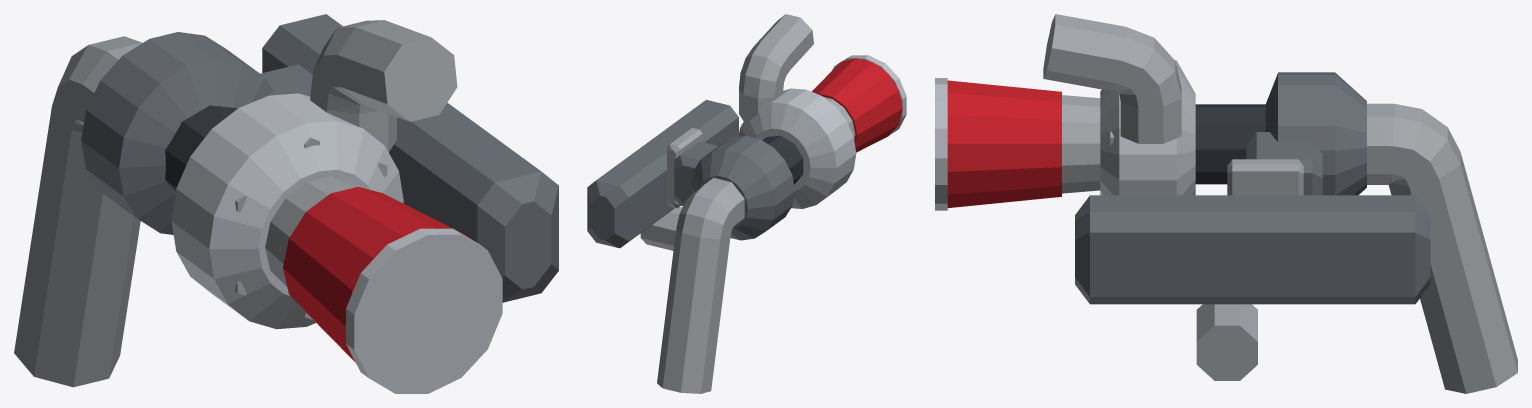
Rendered from kaze_gt.glb.
3 renders of one model, left to right at view 1: azimuth 30°, elevation 25°; view 2: azimuth 150°, elevation 25°; view 3: azimuth 270°, elevation 25°, orthographic. The views are drawn at different scales.
Parts seen in each view (by area): view 1: model; view 2: model; view 3: model.
Boxes of the visible parts, <box> form: model: <box>14,14,558,393</box>; model: <box>587,14,906,393</box>; model: <box>935,14,1517,393</box>.
Size of the model in its own units: 0.2269 by 0.3375 by 0.4587.
Materials: 2 (1 with a texture image).
